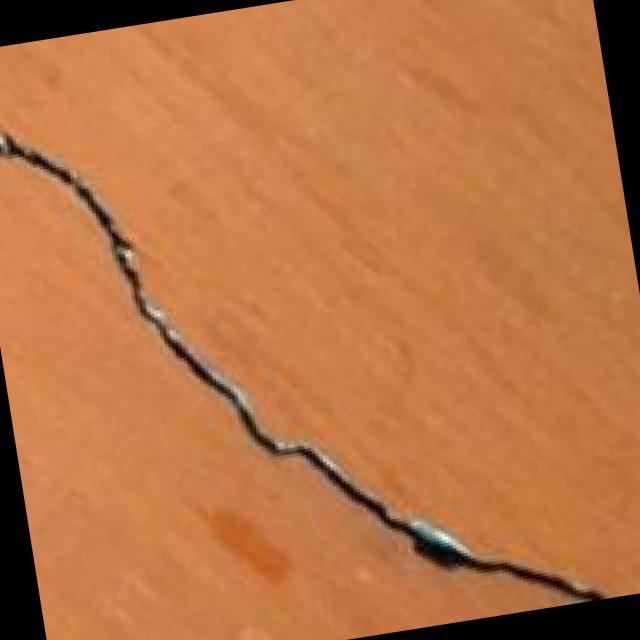crack: (0, 45, 625, 640)
